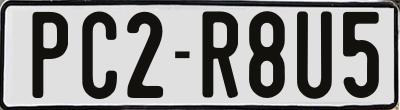2: (127, 12, 166, 102)
5: (340, 10, 382, 101)
8: (249, 11, 285, 104)
C: (80, 9, 117, 99)
P: (29, 11, 71, 99)
R: (202, 8, 244, 98)
U: (297, 8, 338, 97)
